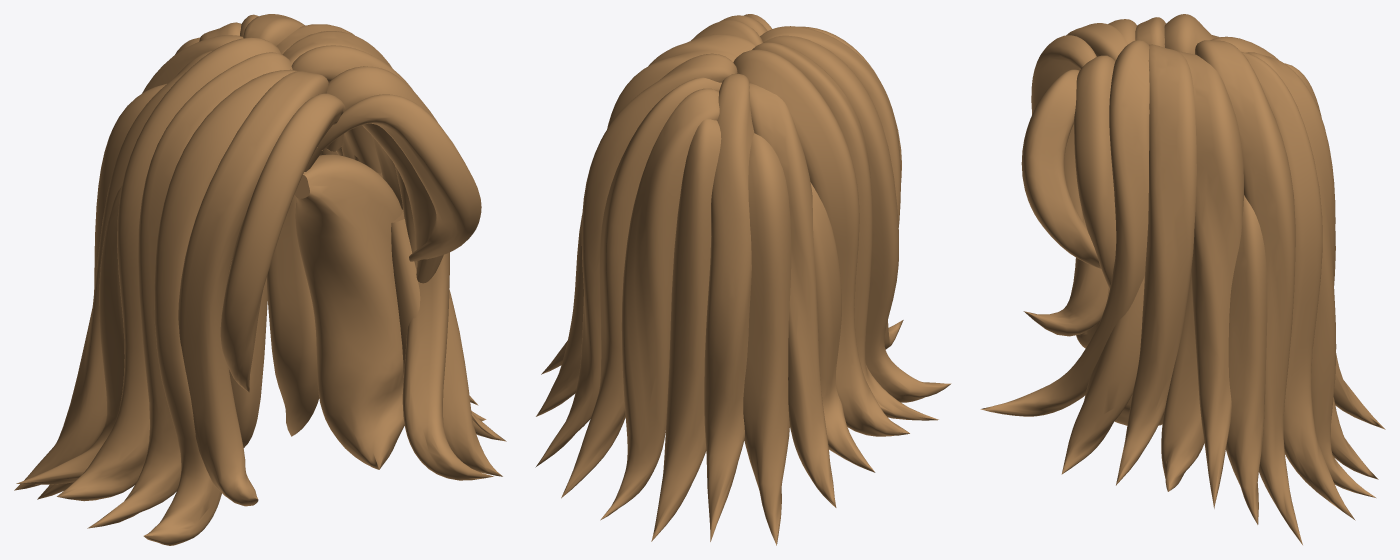
The picture shows the model from 3 angles, left to right: view 1: azimuth 30°, elevation 25°; view 2: azimuth 150°, elevation 25°; view 3: azimuth 270°, elevation 25°; orthographic projection. The views are drawn at different scales.
Parts seen in each view (by area): view 1: 1; view 2: 1; view 3: 1.
Boxes of the visible parts, x1,y1,x2,y2 form: 1: (14,14,506,545); 1: (535,14,951,545); 1: (980,14,1385,544).
Bounding box in the file's own units: 7592 × 8587 × 7021.
